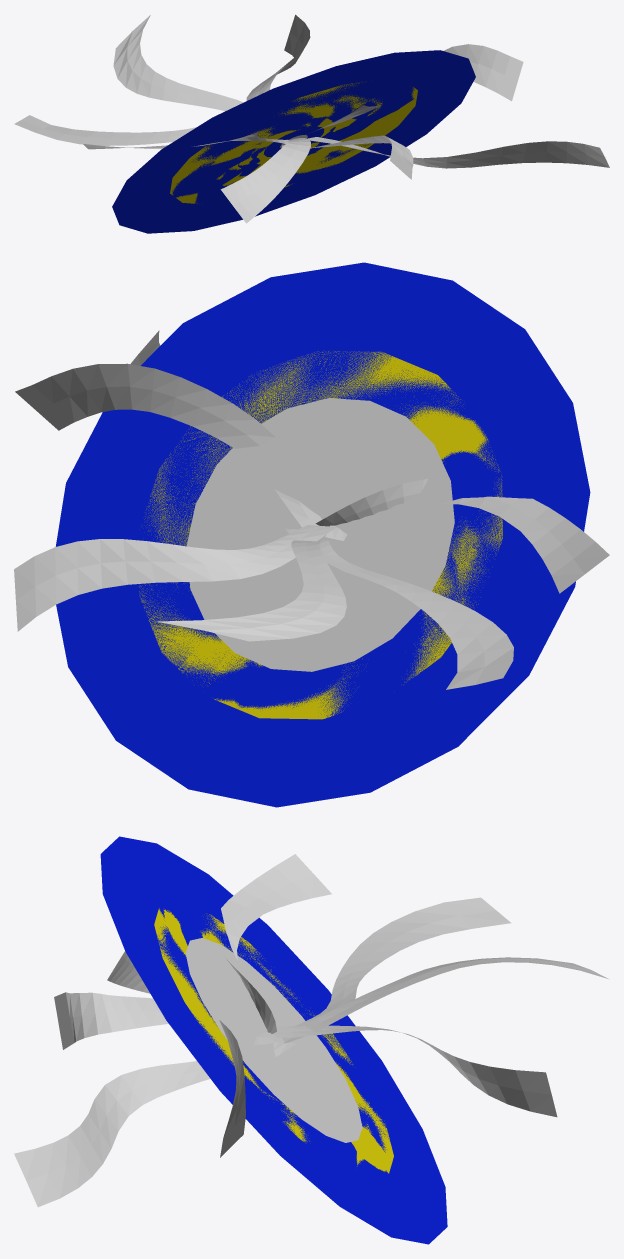
The model's file is pref_fx_evolution_lv3.fbx.
The picture shows the model from 3 angles, top to bottom: view 1: azimuth 30°, elevation 25°; view 2: azimuth 150°, elevation 25°; view 3: azimuth 270°, elevation 25°; orthographic projection. The views are drawn at different scales.
Parts seen in each view (by area): view 1: sm_noise, sm_trail; view 2: sm_noise, sm_trail, sm_blend; view 3: sm_noise, sm_trail, sm_blend.
Part boxes in pixels (box(x1,y1,x2,y2)): sm_noise: box(112, 50, 475, 233); sm_trail: box(14, 14, 609, 223); sm_noise: box(55, 262, 590, 807); sm_trail: box(14, 330, 609, 689); sm_blend: box(186, 398, 454, 671); sm_noise: box(100, 836, 447, 1244); sm_trail: box(14, 854, 609, 1207); sm_blend: box(185, 938, 362, 1142).
Size of the model in its own units: 12.65 by 7.29 by 11.49.
